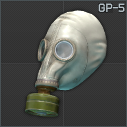GP-5 gas mask: (0, 0, 127, 127)
